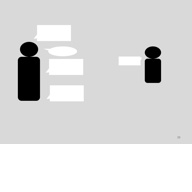left_oneway: (45, 83, 86, 104), (44, 57, 85, 78), (32, 22, 73, 42)
left_speech: (43, 44, 78, 57)
right_oneway: (113, 53, 143, 67)
